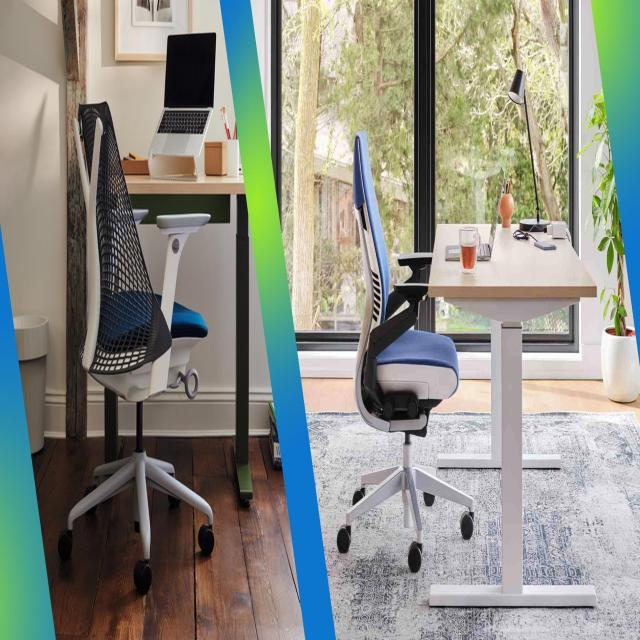obstacle: (54, 87, 231, 612), (330, 92, 464, 587)
